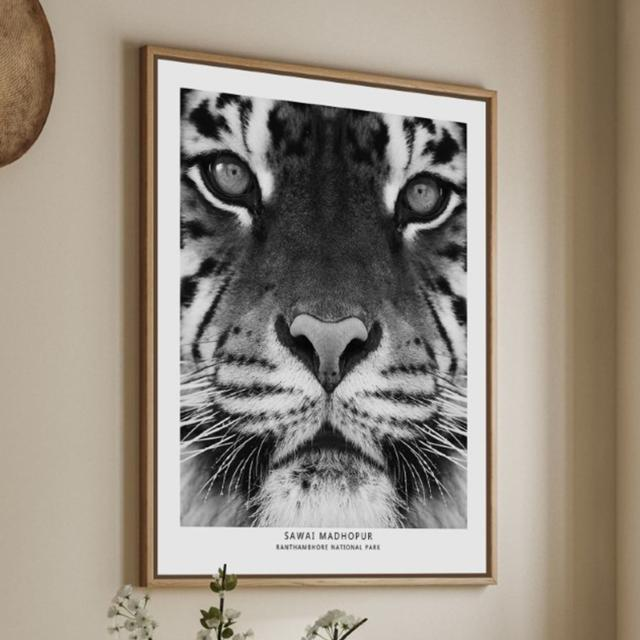painting: (147, 44, 501, 584)
